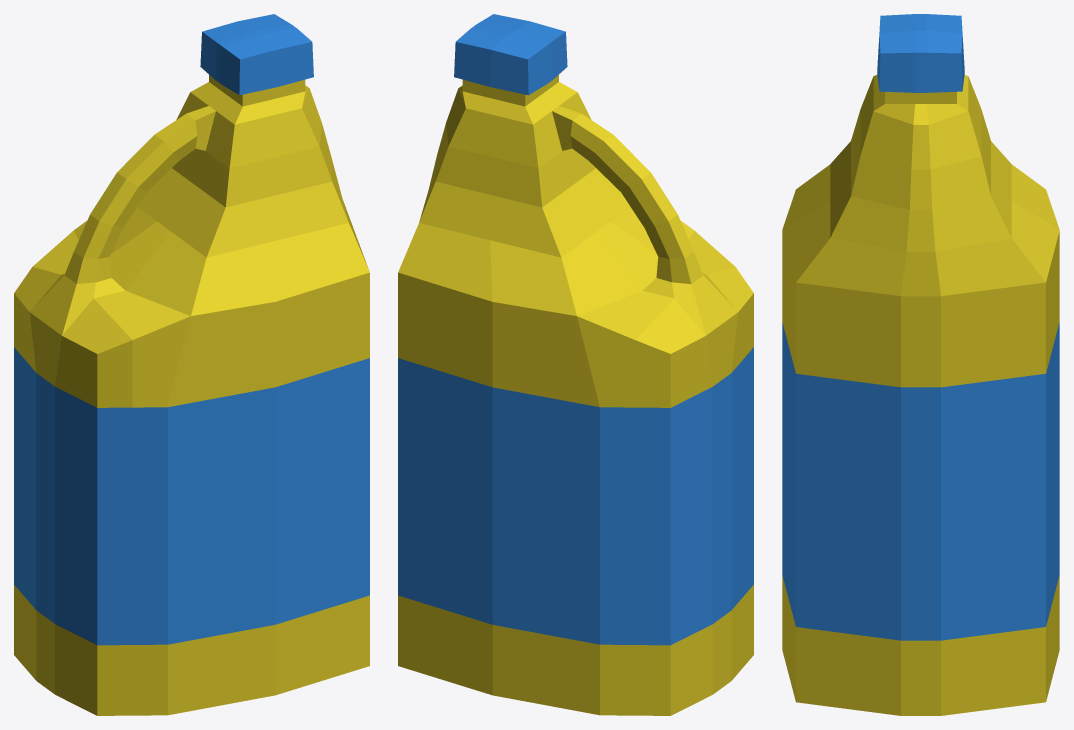
The model's file is CleanBottle.fbx.
3 views of the same model, side by side, from view 1: azimuth 30°, elevation 25°; view 2: azimuth 150°, elevation 25°; view 3: azimuth 270°, elevation 25° (orthographic). The views are drawn at different scales.
Parts seen in each view (by area): view 1: CleanerBottle; view 2: CleanerBottle; view 3: CleanerBottle.
Boxes of the visible parts, left/top/right/bottom form: CleanerBottle: left=14, top=14, right=369, bottom=715; CleanerBottle: left=398, top=14, right=753, bottom=715; CleanerBottle: left=782, top=14, right=1059, bottom=715.
Bounding box in the file's own units: 2.16 × 1.66 × 4.26.
